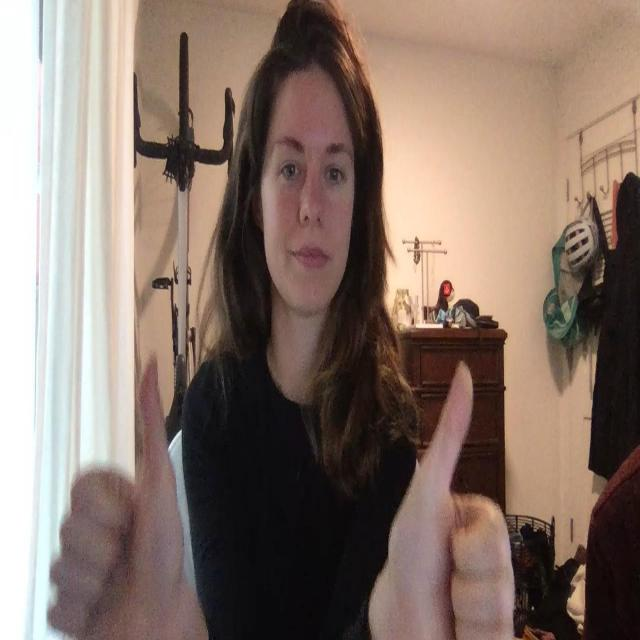face: (262, 84, 356, 316)
